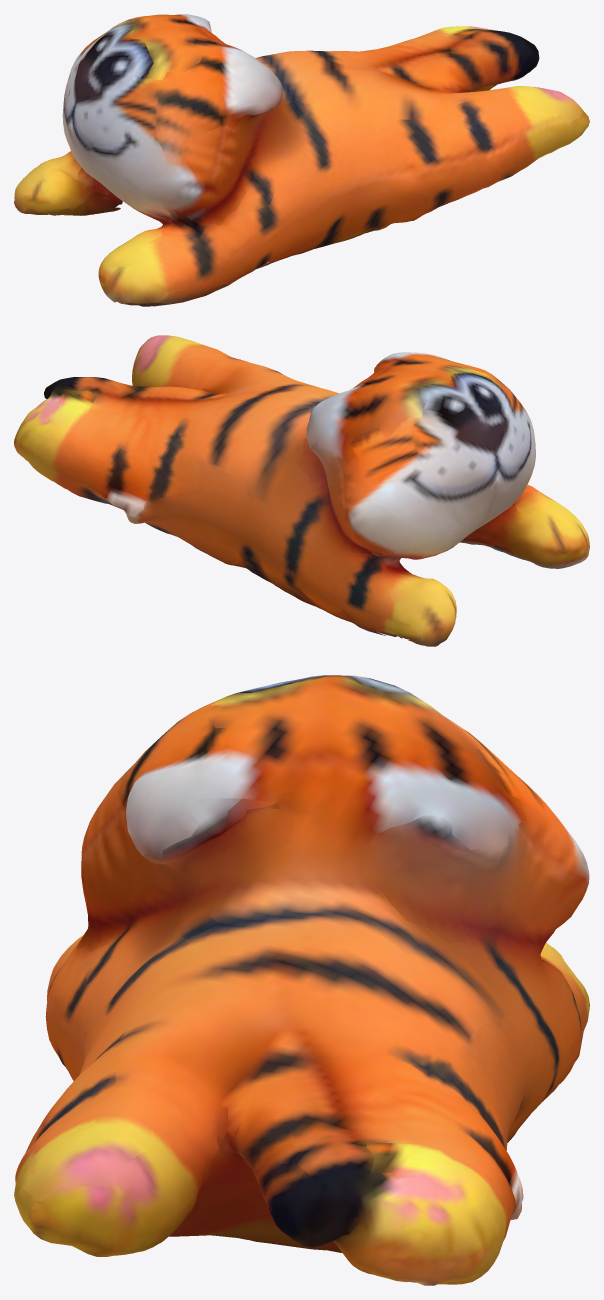
Rendered from tigre-echado.glb.
3 views of the same model, one above another, from view 1: azimuth 30°, elevation 25°; view 2: azimuth 150°, elevation 25°; view 3: azimuth 270°, elevation 25° (orthographic). The views are drawn at different scales.
Visible parts, largest first — view 1: Object_2; view 2: Object_2; view 3: Object_2.
Boxes of the visible parts, bbox=[...] form: Object_2: bbox=[14, 14, 589, 306]; Object_2: bbox=[14, 335, 589, 646]; Object_2: bbox=[14, 675, 589, 1285].
Size of the model in its own units: 0.3263 by 0.1341 by 0.1849.
Materials: 1 (1 with a texture image).
